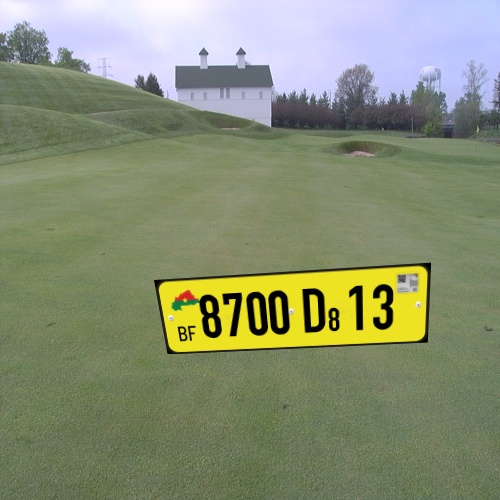plate: (136, 251, 442, 365)
